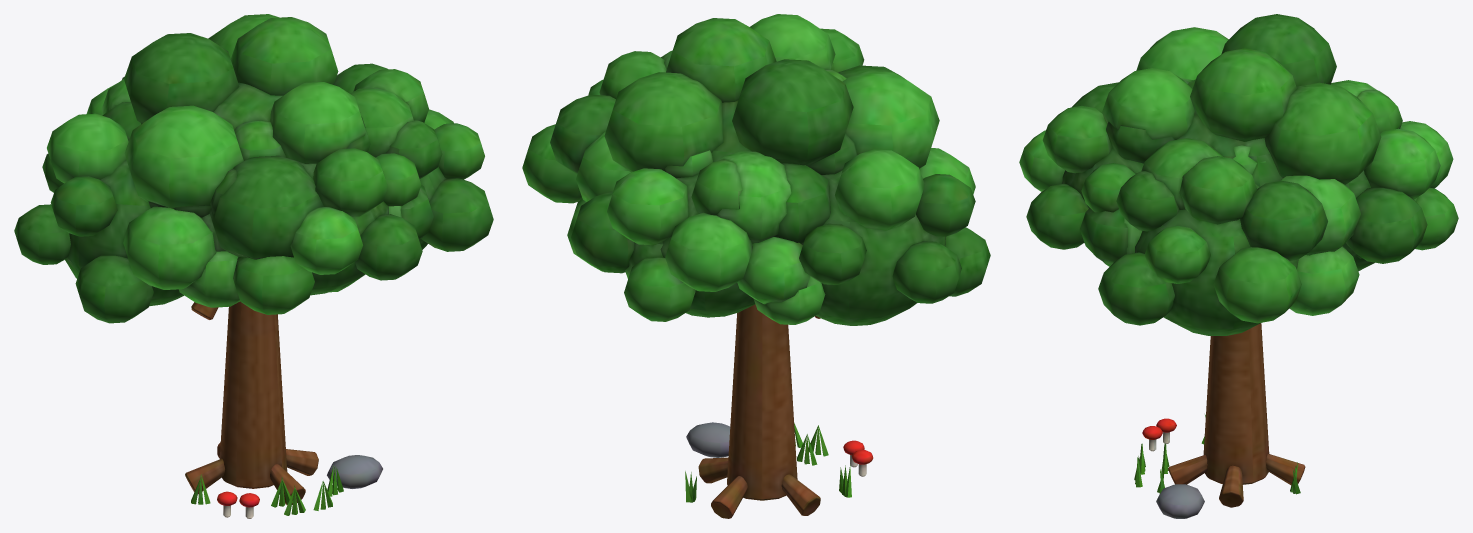
File: tree_obs1.glb
3 renders of one model, left to right at view 1: azimuth 30°, elevation 25°; view 2: azimuth 150°, elevation 25°; view 3: azimuth 270°, elevation 25°, orthographic. The views are drawn at different scales.
Visible parts, largest first — view 1: crown, tree_obs1; view 2: crown, tree_obs1; view 3: crown, tree_obs1.
Boxes of the visible parts, bbox=[...] form: crown: bbox=[14, 14, 493, 323]; tree_obs1: bbox=[185, 301, 382, 518]; crown: bbox=[522, 14, 990, 325]; tree_obs1: bbox=[685, 304, 873, 518]; crown: bbox=[1019, 14, 1458, 335]; tree_obs1: bbox=[1134, 323, 1305, 518].
Bounding box in the file's own units: 1.4 × 1.41 × 1.26.
Materials: 1 (1 with a texture image).
